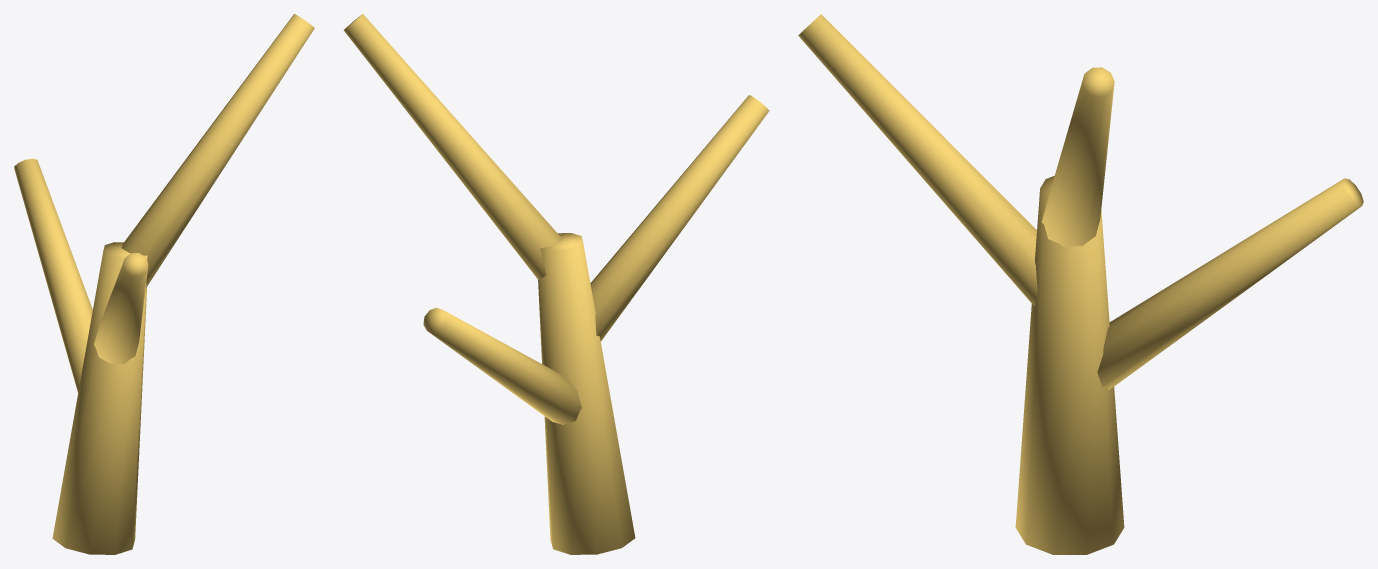
File: underwater-reef-worlds-rope-sponge-1c12a4f7__7015.glb
3 views of the same model, side by side, from view 1: azimuth 30°, elevation 25°; view 2: azimuth 150°, elevation 25°; view 3: azimuth 270°, elevation 25° (orthographic). The views are drawn at different scales.
Parts seen in each view (by area): view 1: rope-sponge; view 2: rope-sponge; view 3: rope-sponge.
Boxes of the visible parts, x1,y1,x2,y2 form: rope-sponge: [14, 14, 314, 554]; rope-sponge: [343, 14, 769, 554]; rope-sponge: [798, 14, 1363, 554].
Size of the model in its own units: 1.04 by 1.55 by 1.33.
